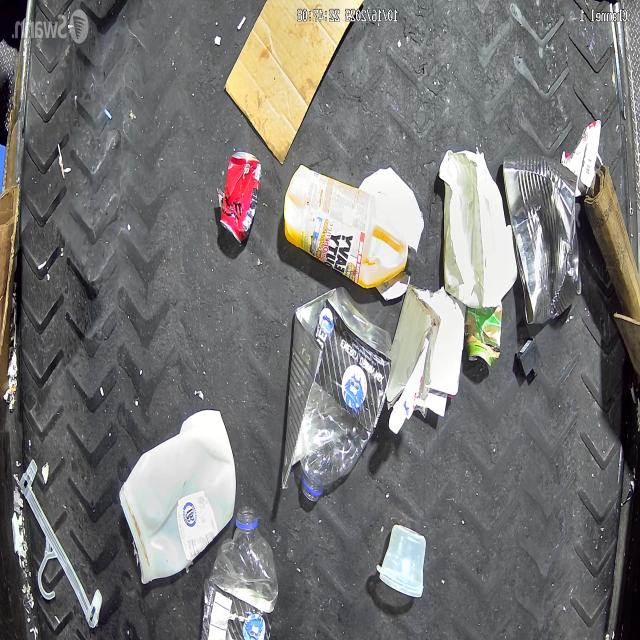can: (501, 156, 582, 323), (220, 152, 262, 246), (462, 305, 502, 366)
milk_jug: (118, 412, 236, 585)
non_white_jug: (284, 165, 416, 289)
plastic_bottle: (300, 284, 396, 498), (207, 506, 279, 638)
